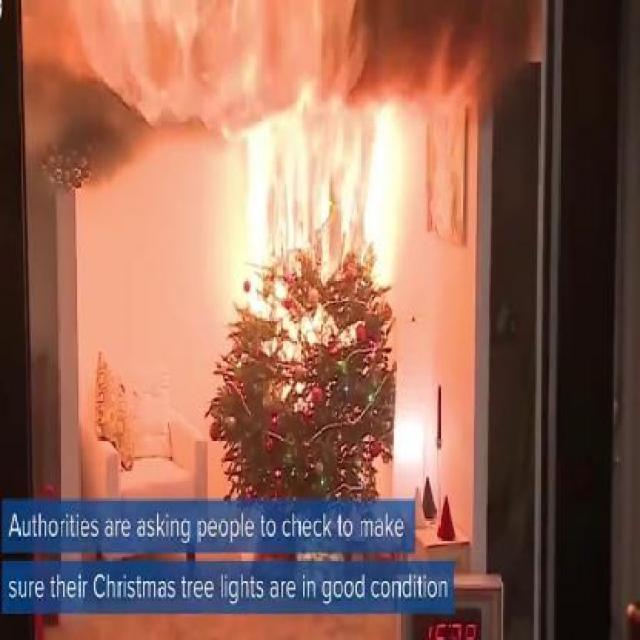fire: (246, 119, 382, 335)
smoke: (19, 1, 222, 162), (344, 1, 520, 138)
